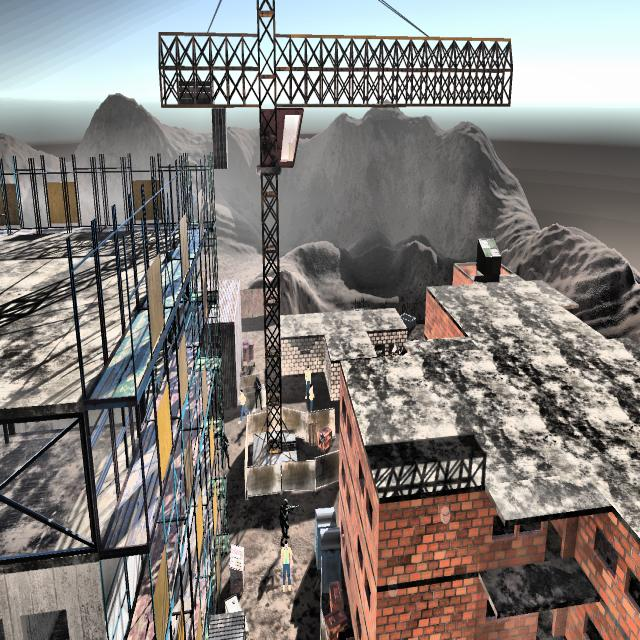bad: (276, 493, 295, 538), (220, 433, 232, 476), (254, 369, 262, 410)
good: (276, 540, 296, 595), (236, 382, 250, 426), (306, 379, 316, 413), (302, 359, 311, 391)
